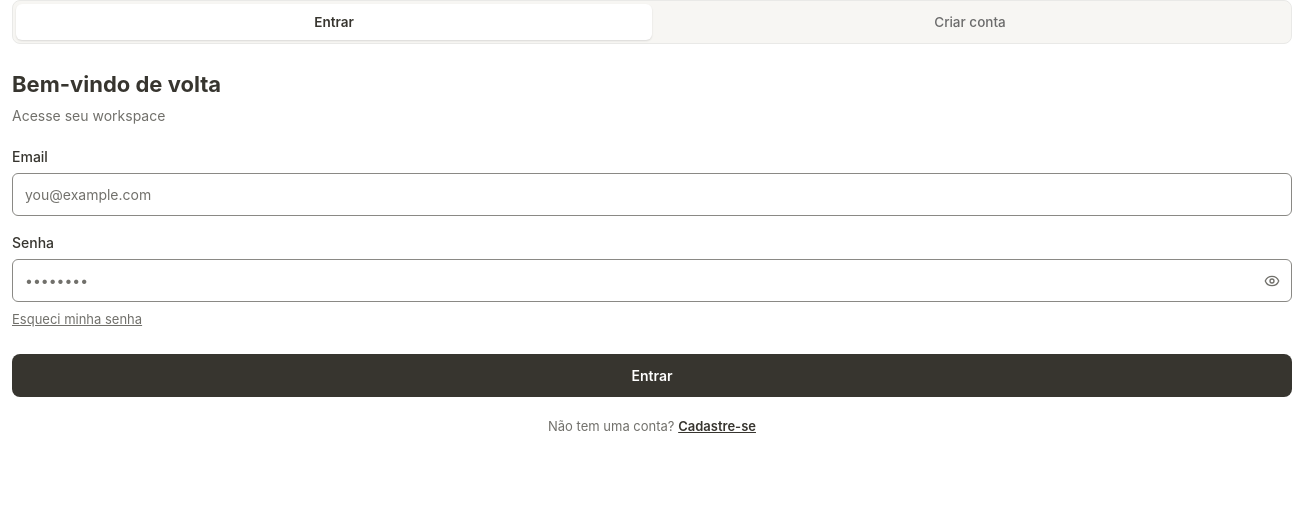
Test: AuthForm: login › mostra o erro do login e não avisa o gate
Step 1. Type "pessoa@example.com" into the field labelled "Email" → (652, 195), box top-left (12, 173), bottom-right (1292, 216)
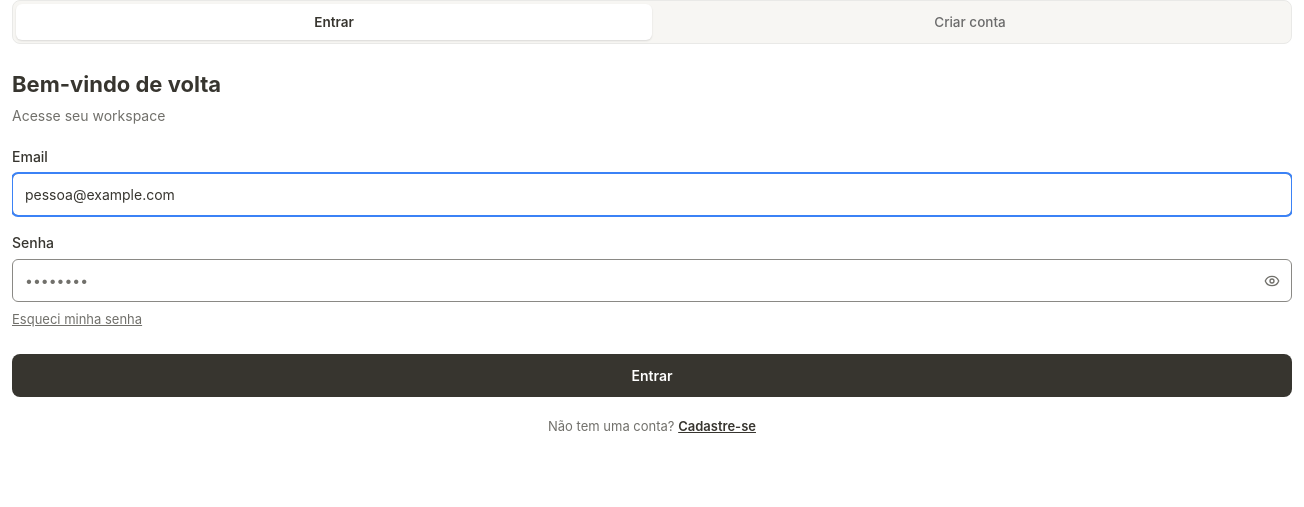
Step 2. Type "errada" into the password field labelled "Senha" → (652, 281), box top-left (12, 259), bottom-right (1292, 302)
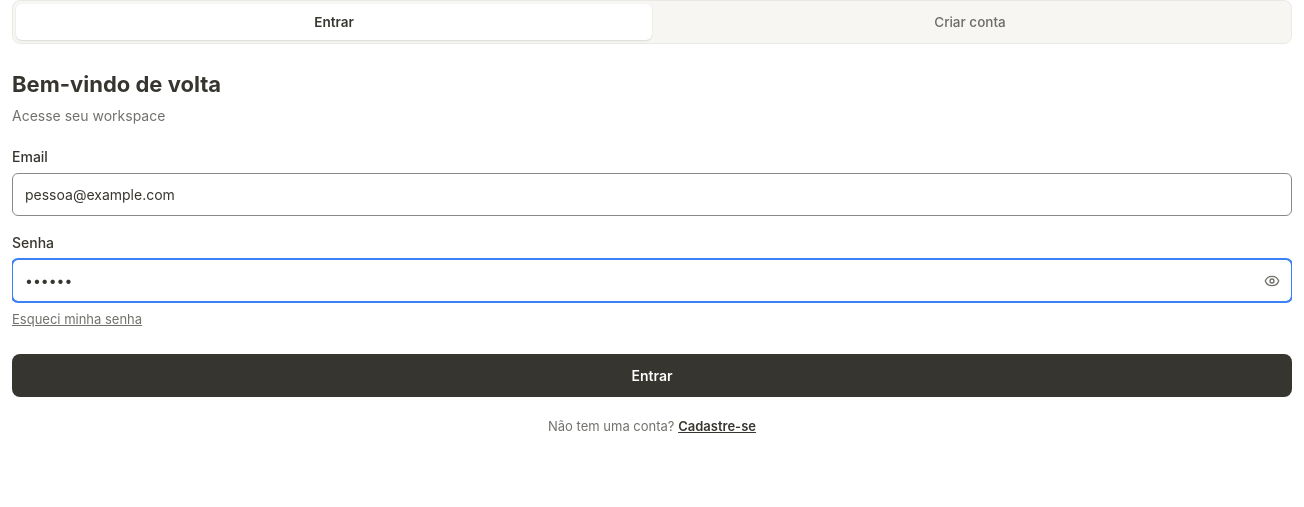
Step 3. Press Enter
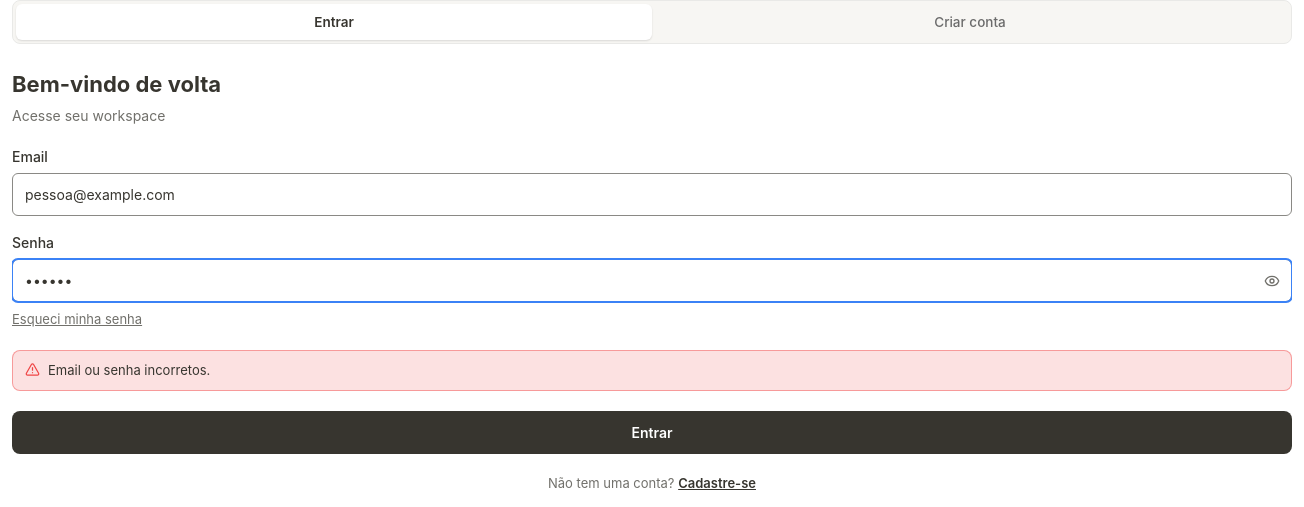
Now the message reads "Email ou senha incorretos.", box top-left (48, 362), bottom-right (210, 378)
